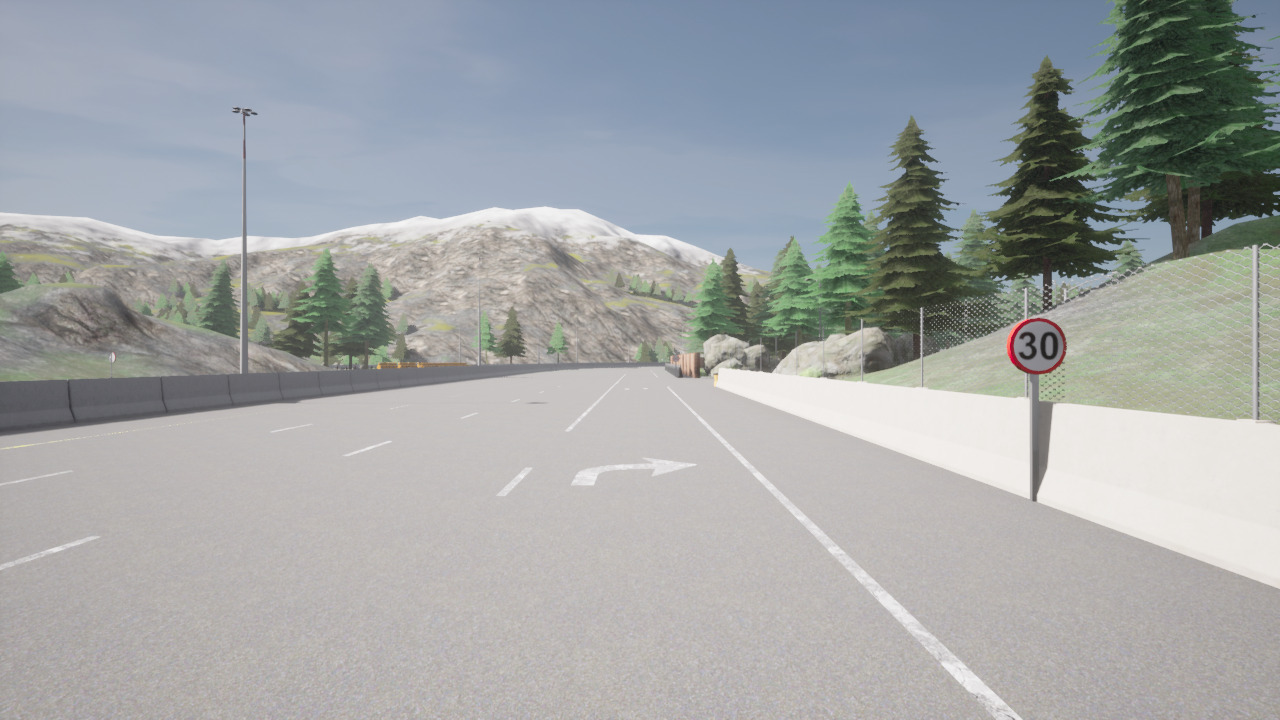sl30: (1005, 315, 1070, 376)
